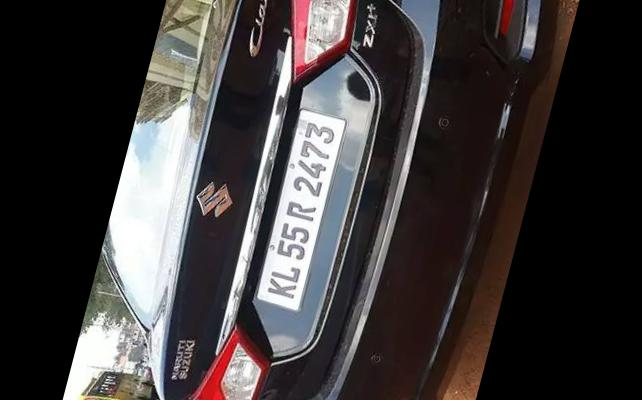plate: (230, 86, 364, 321)
